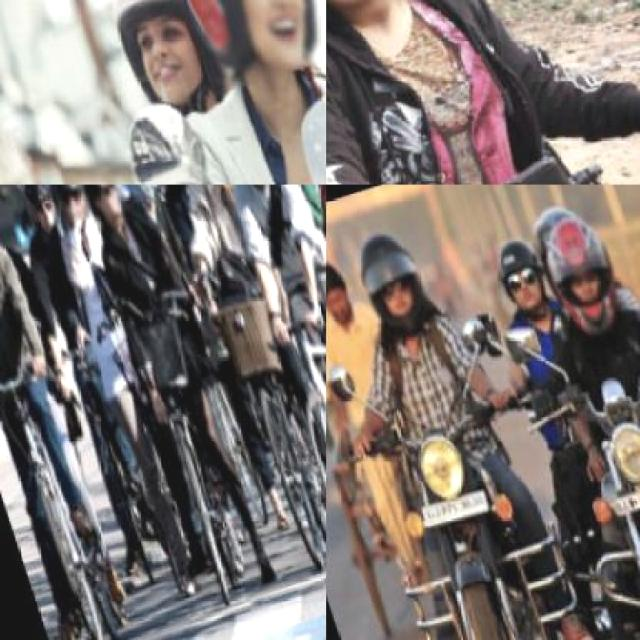With Helmet: (152, 0, 325, 105), (525, 211, 632, 351), (100, 0, 223, 120), (337, 215, 443, 348), (484, 230, 554, 322), (12, 185, 68, 248), (37, 184, 94, 230)
Without Helmet: (72, 185, 132, 237)
